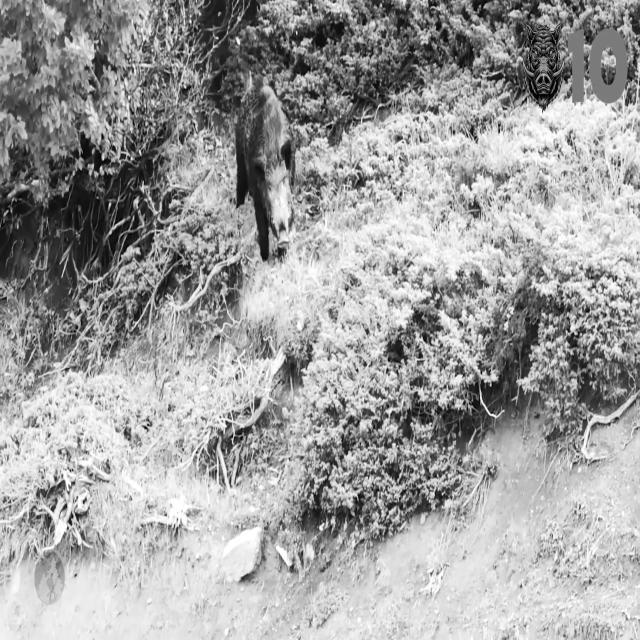boar: (235, 76, 295, 260)
